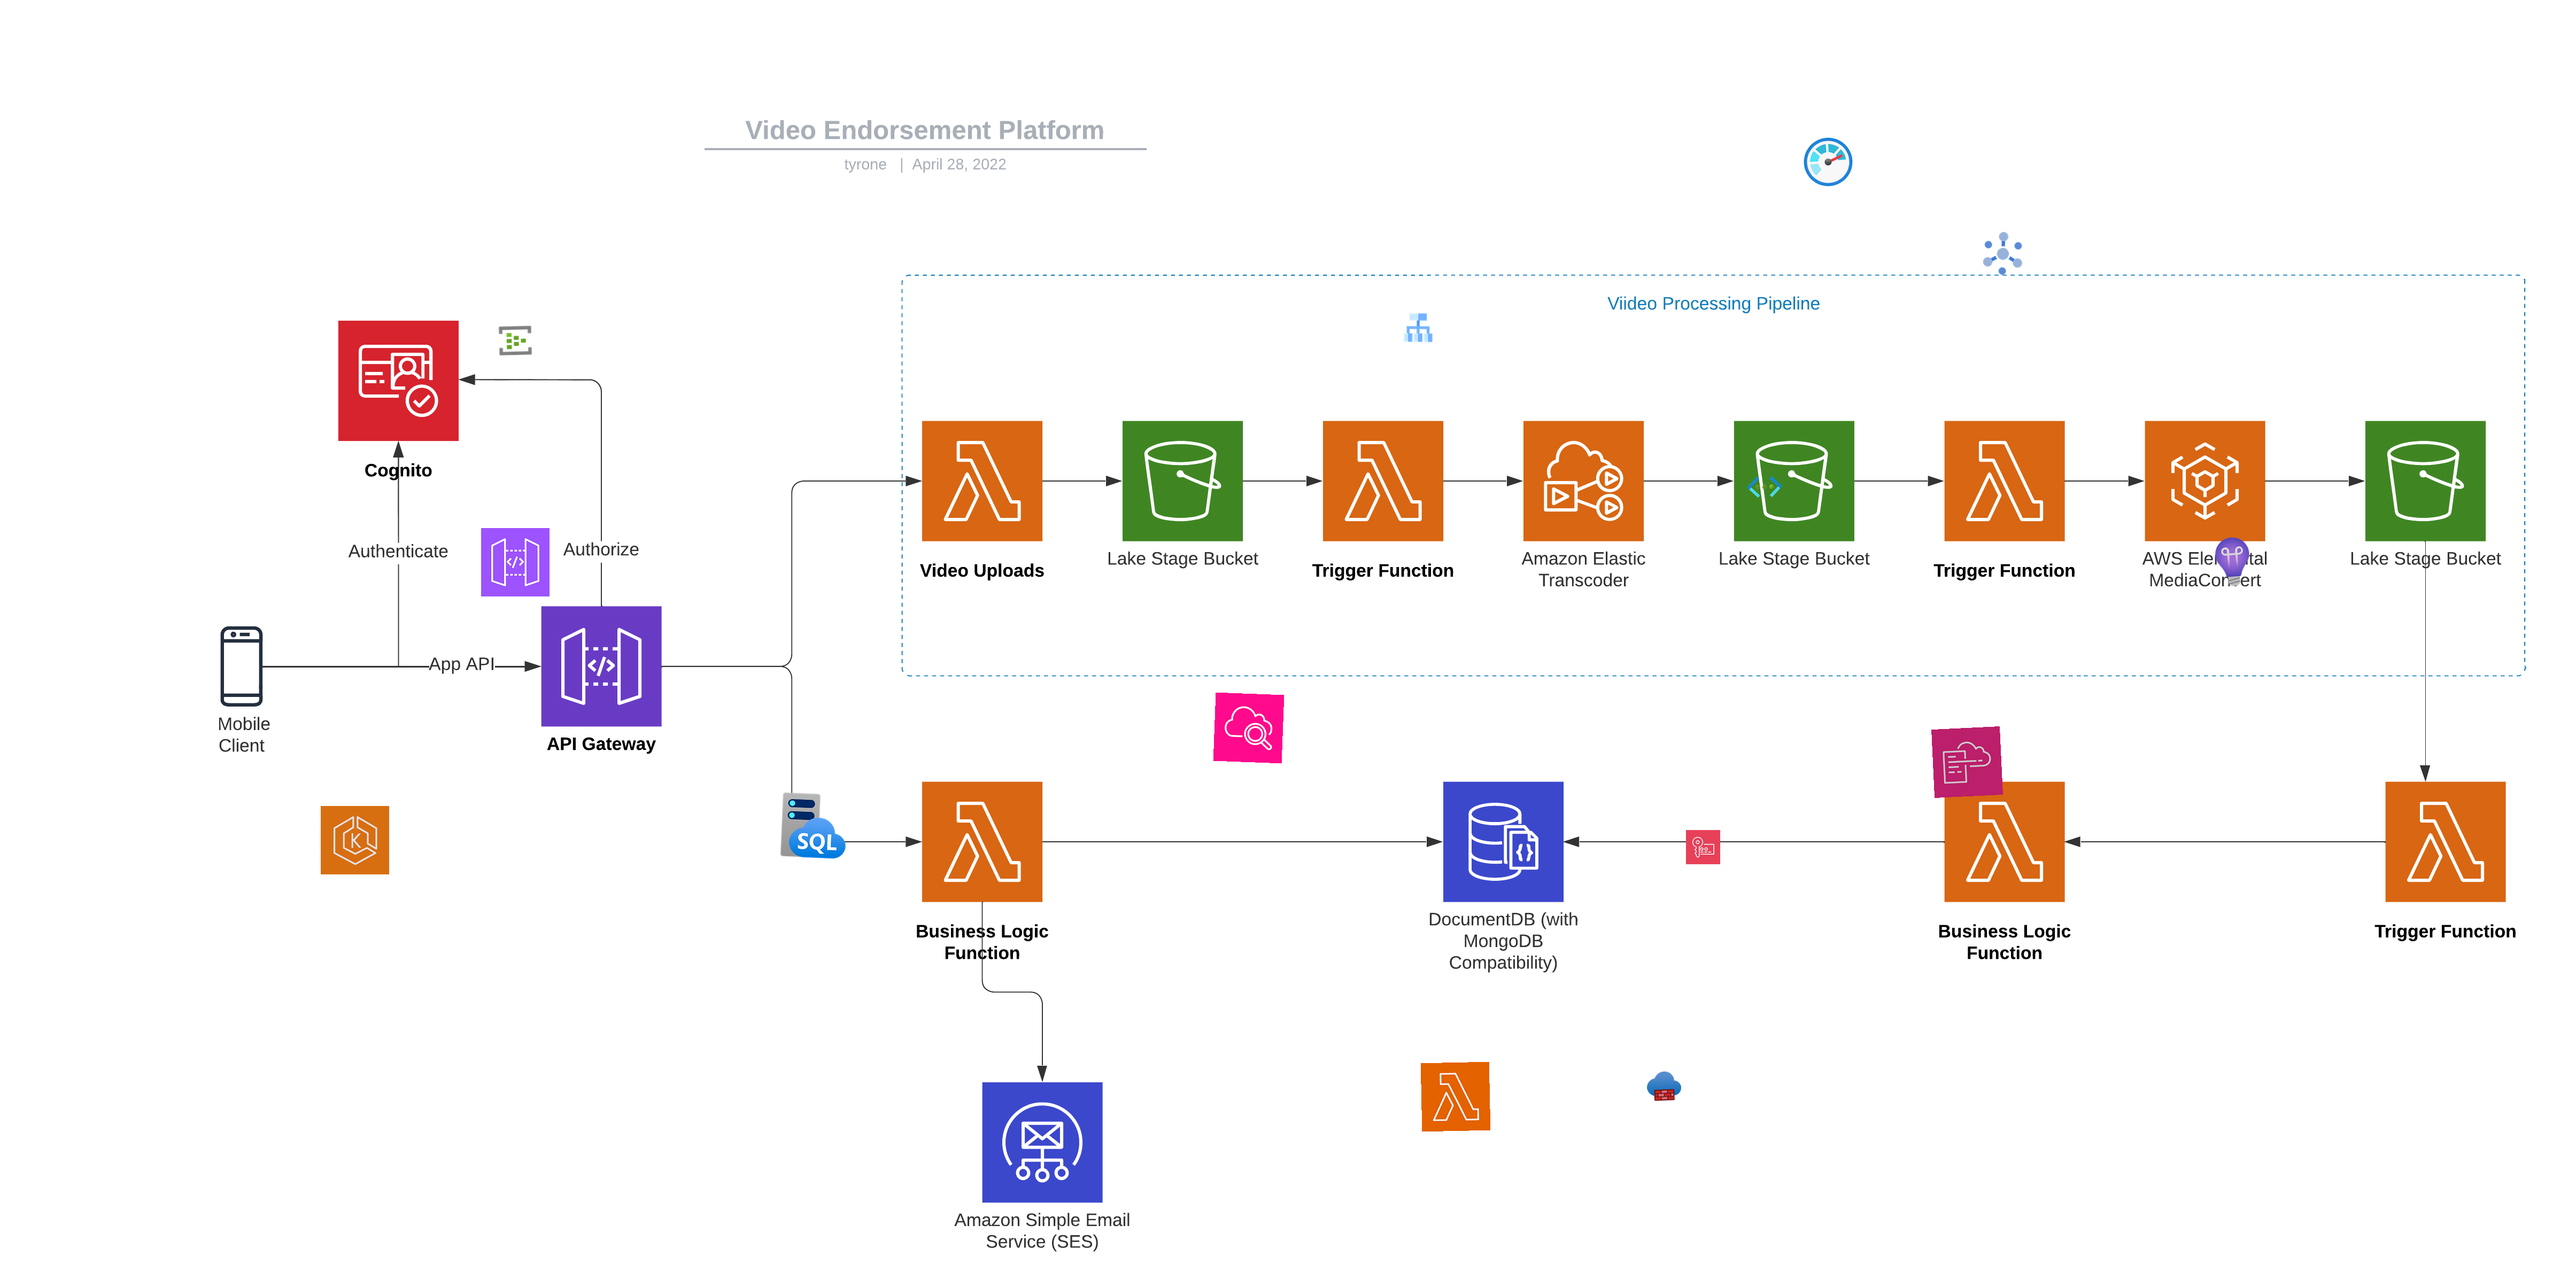aws_amazon_api_gateway: (481, 527, 550, 598)
aws_amazon_cloudwatch: (1212, 693, 1285, 763)
aws_amazon_elastic_kubernetes_service: (320, 806, 389, 875)
aws_cloudformation: (1932, 726, 2003, 798)
aws_key_management_service: (1686, 829, 1720, 865)
aws_lambda: (1421, 1062, 1490, 1133)
azure_application_insights: (2205, 534, 2261, 589)
azure_event_hubs: (498, 323, 532, 358)
azure_firewalls: (1646, 1069, 1682, 1105)
azure_monitor: (1801, 135, 1856, 190)
azure_sql_managed_instance: (779, 790, 849, 862)
azure_virtual_networks: (1746, 469, 1783, 506)
gcp_cloud_load_balancing: (1400, 310, 1436, 345)
gcp_pubsub: (1976, 227, 2029, 281)
